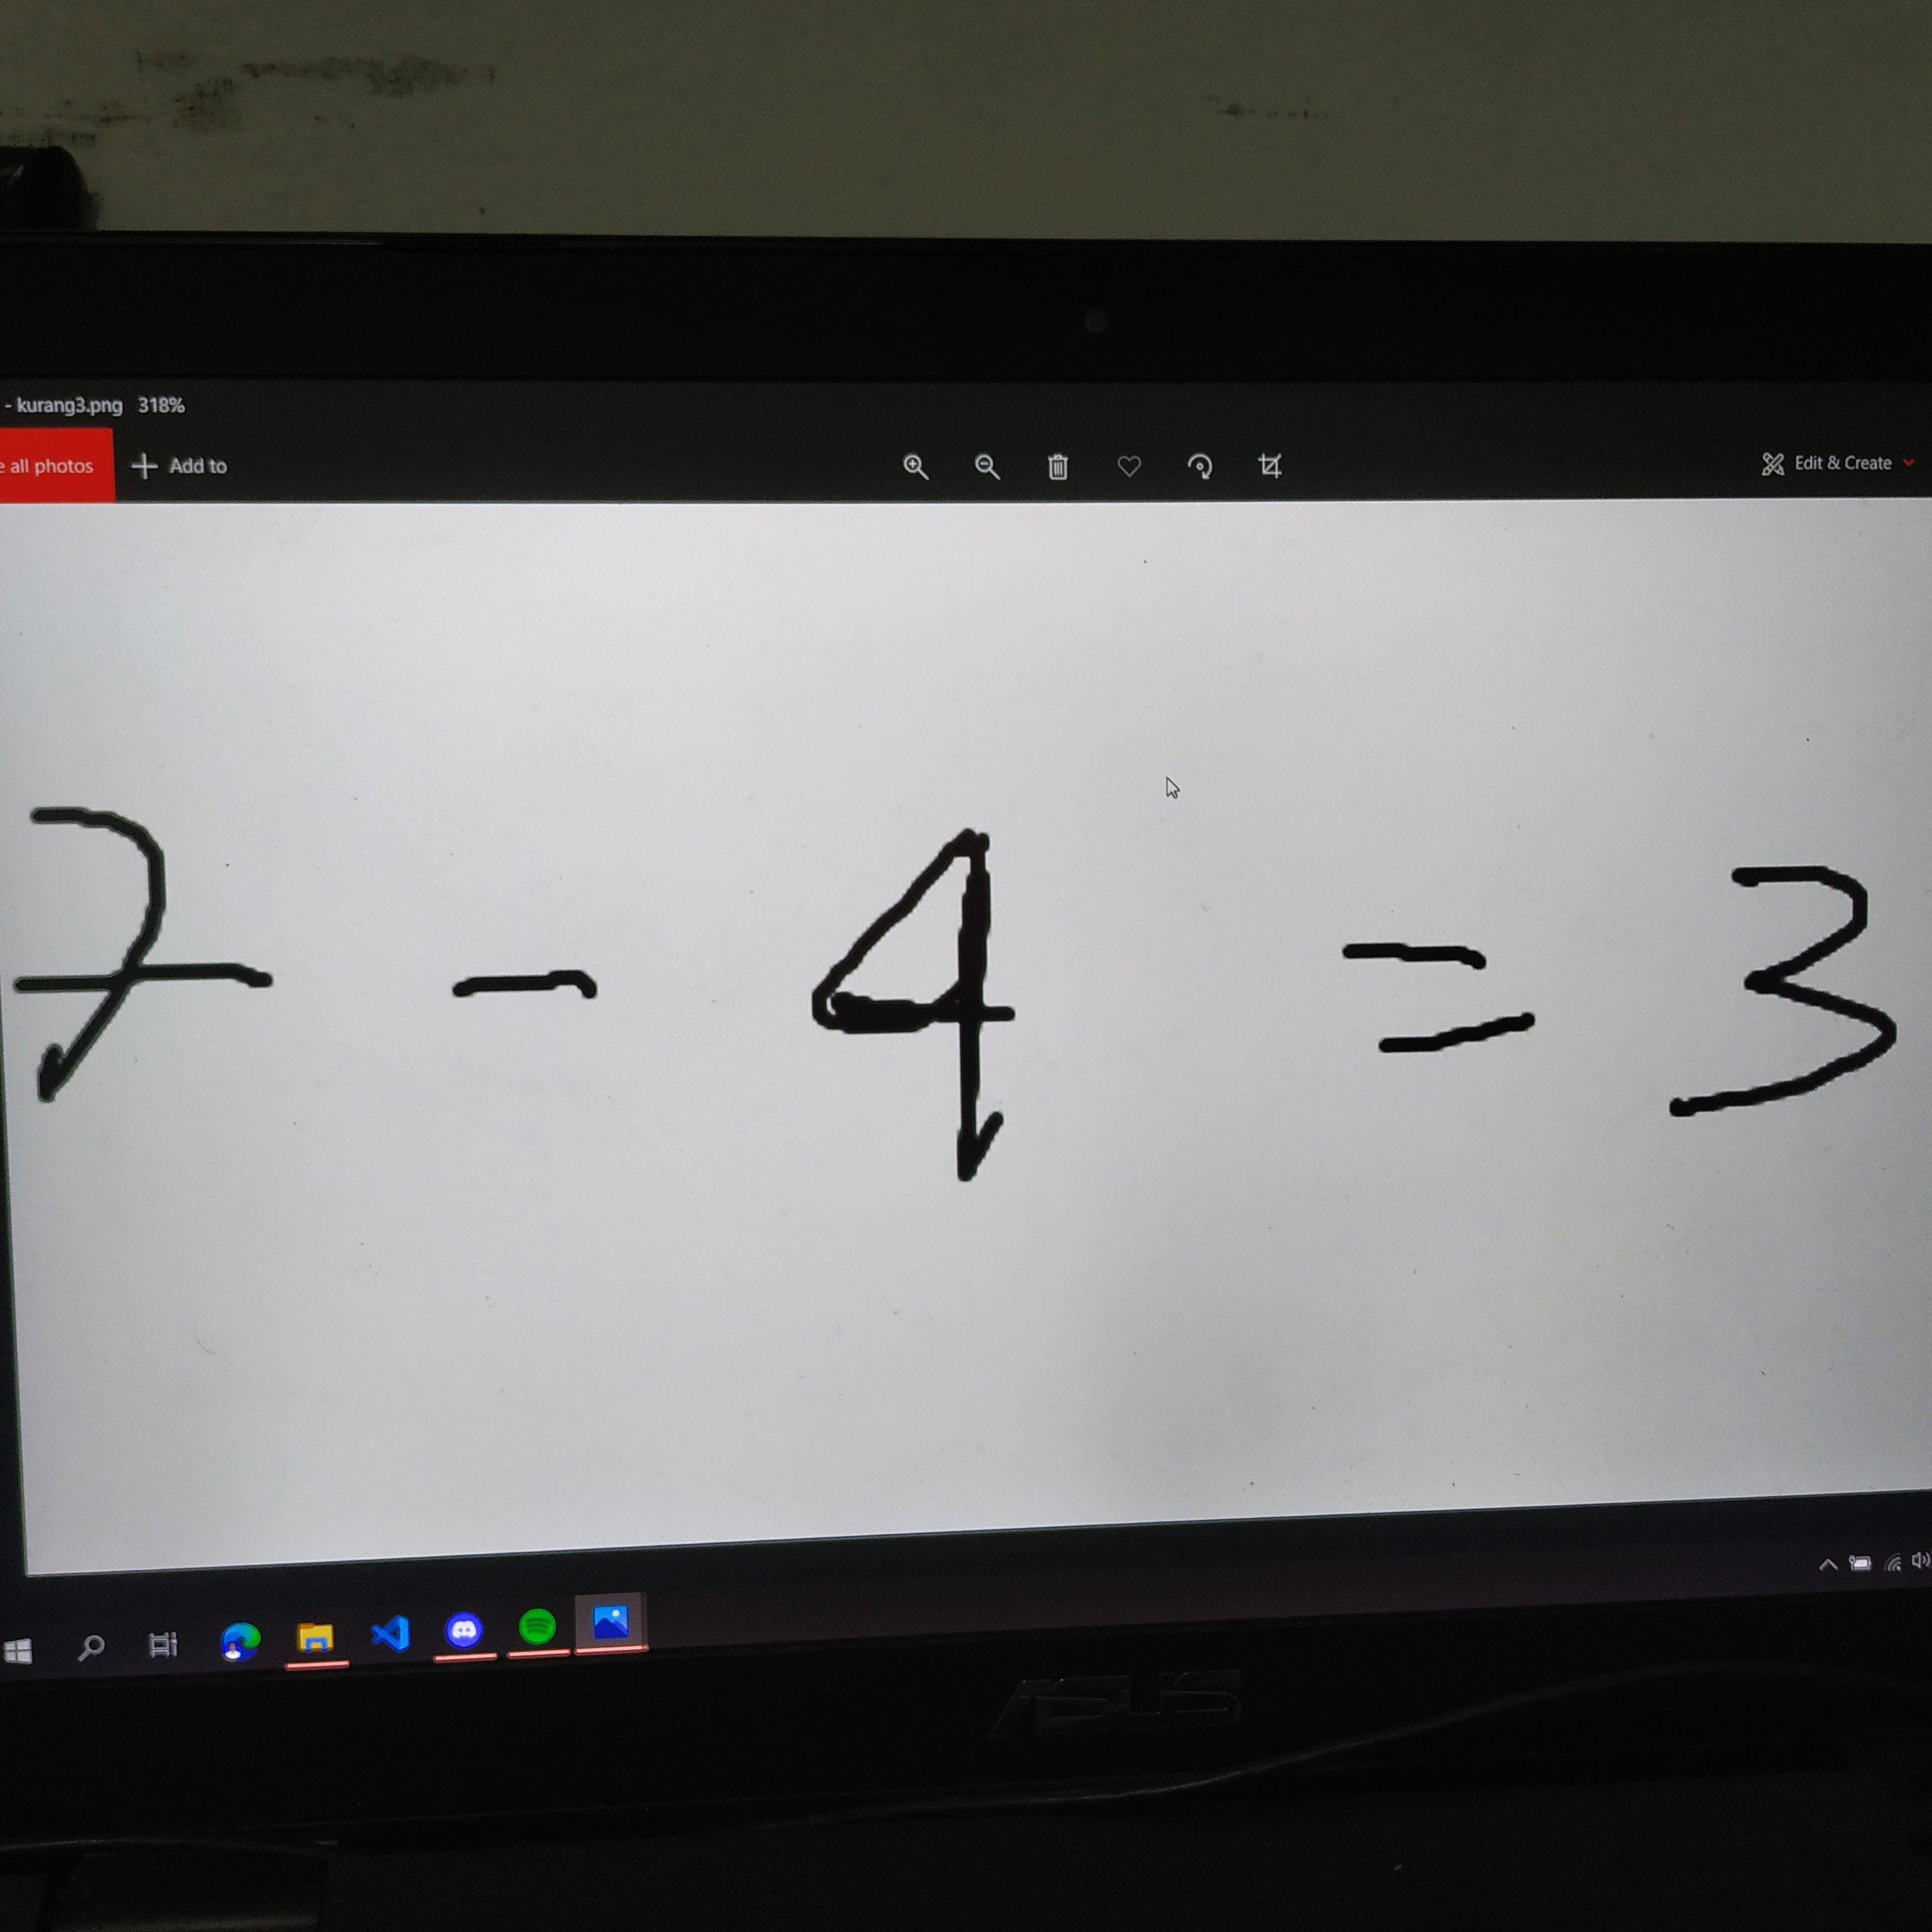equal: (1320, 922, 1571, 1063)
min: (430, 953, 636, 1020)
num3: (1642, 837, 1924, 1146)
num4: (759, 814, 1060, 1192)
num7: (5, 789, 294, 1130)
